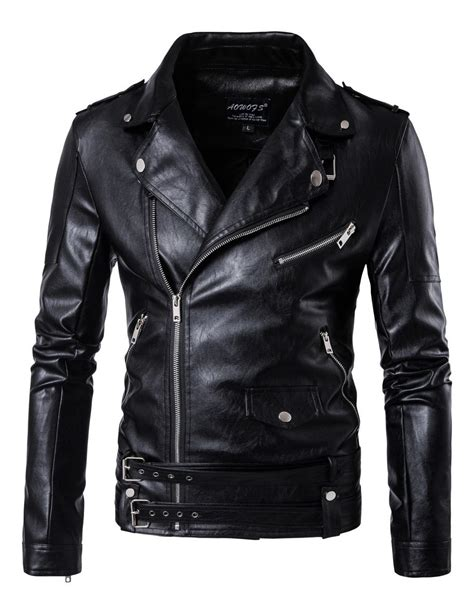cuero: (20, 28, 455, 579)
